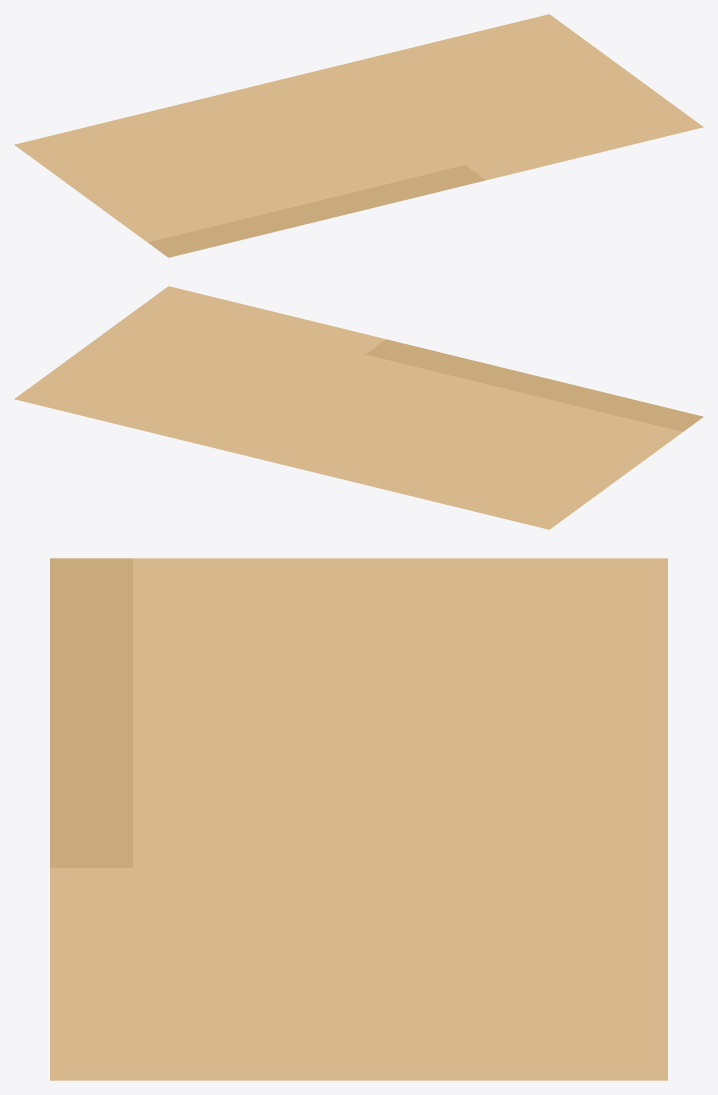
3 renders of one model, top to bottom at view 1: azimuth 30°, elevation 25°; view 2: azimuth 150°, elevation 25°; view 3: azimuth 270°, elevation 25°, orthographic. The views are drawn at different scales.
Bounding box in the file's own units: 1 × 0 × 0.5.
1 material, 1 textured.
